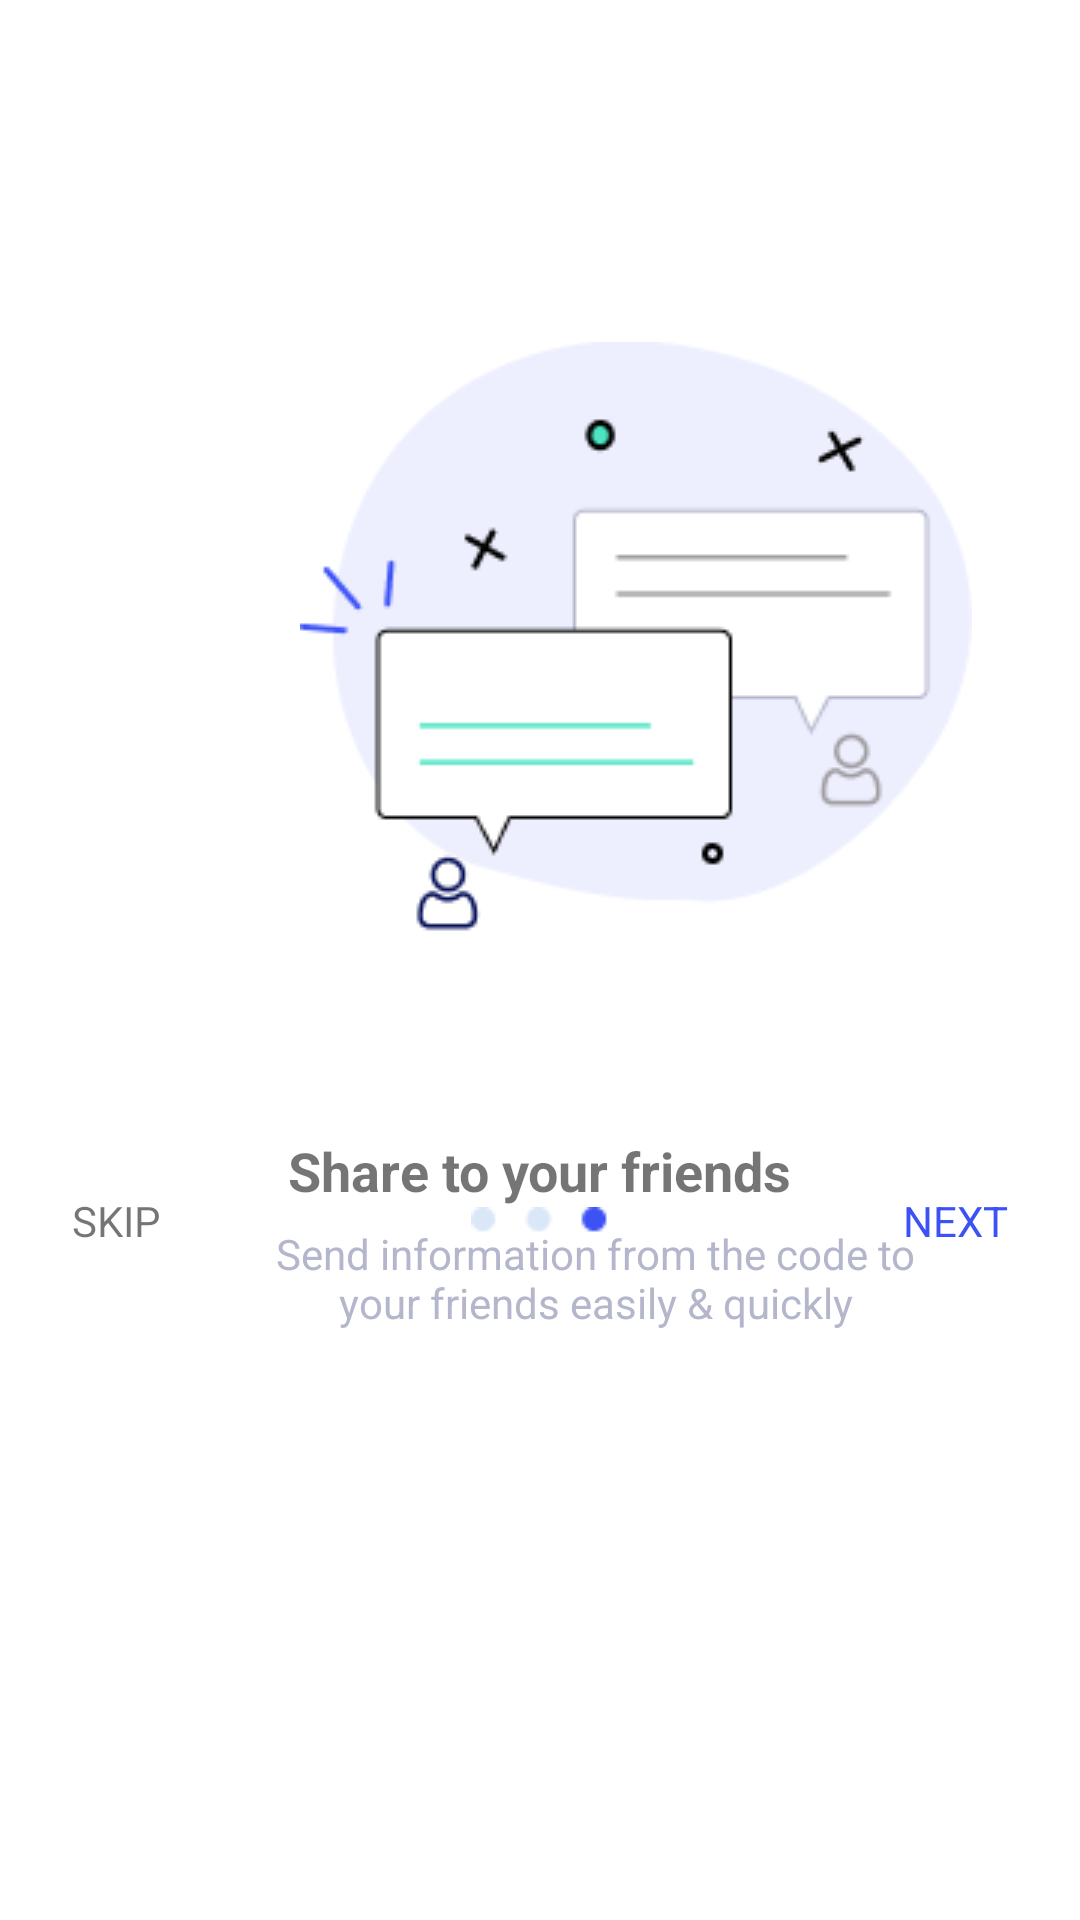

Point at icon controls on the screen. Image size 1080 × 1920, points as point (x, y).
dot onboard: point (539, 1219)
